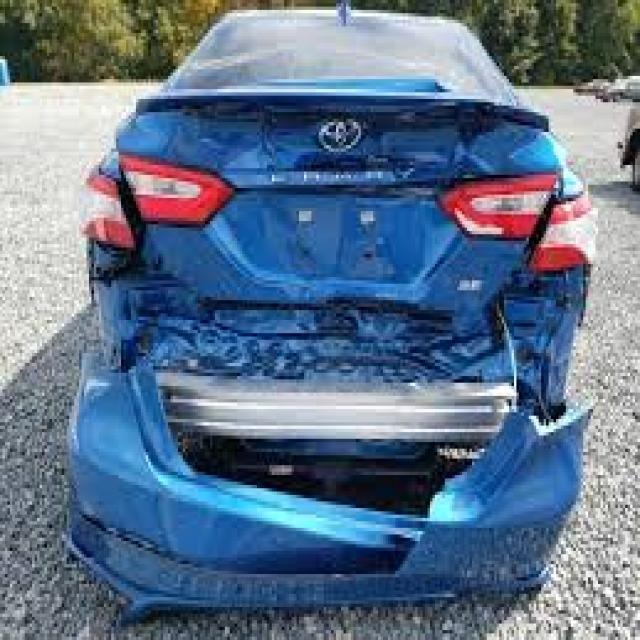damaged-trunk: (115, 82, 553, 370)
